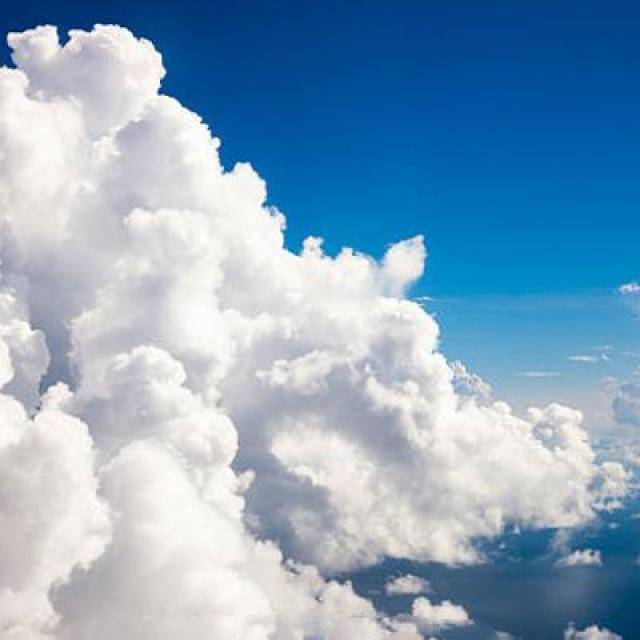Cu: (1, 15, 640, 640)
